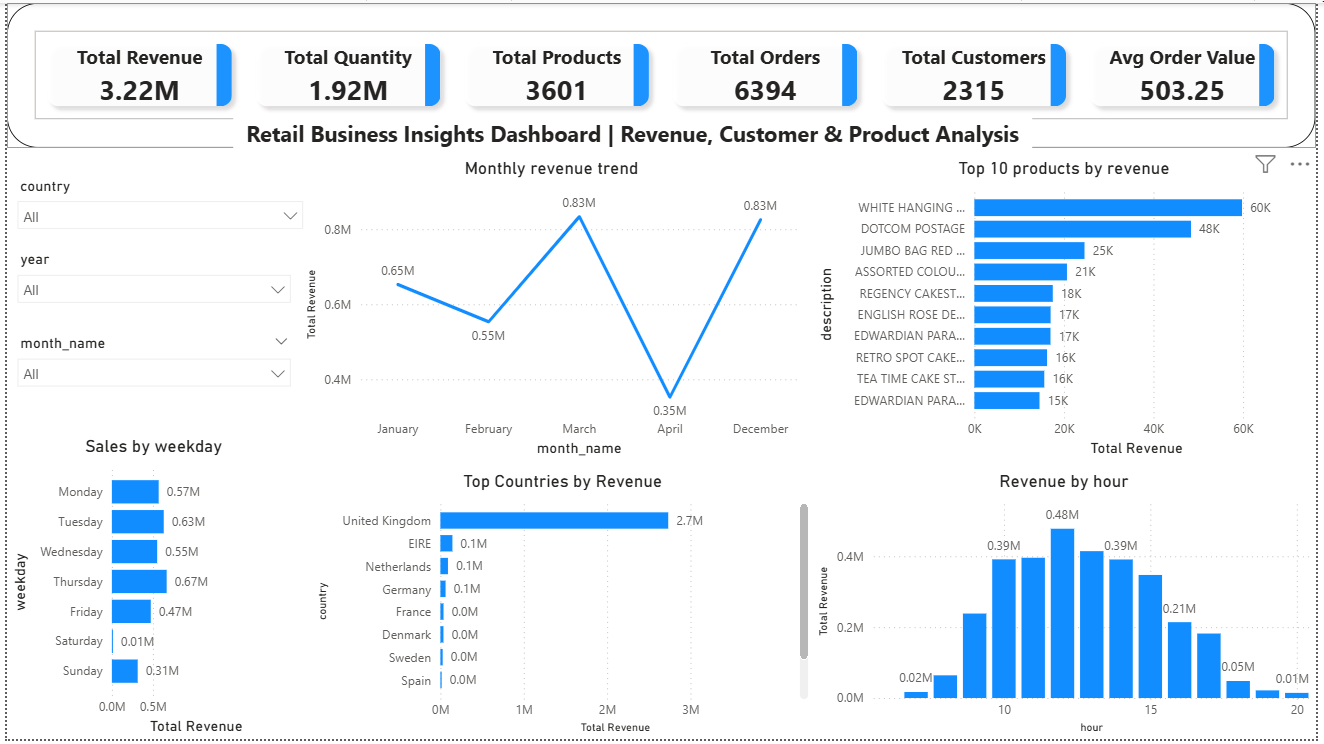

What the dashboard file says about the page in this screenshot:
{"tool":"powerbi","page":{"name":"Executive Overview","canvas":[1280,720],"ordinal":0},"visuals":[{"type":"cardVisual","fields":{"Data":["final_online_retail.Total Revenue","final_online_retail.Total Quantity","final_online_retail.Total Products","final_online_retail.Total Orders","final_online_retail.Total Customers","final_online_retail.Avg Order Value"]},"box":[0,0,1280.3,141.8],"z":0},{"type":"lineChart","title":"Monthly revenue trend","fields":{"Category":["final_online_retail.month_name"],"Y":["final_online_retail.Total Revenue"]},"box":[287.1,151.5,490.5,297.2],"z":1000},{"type":"clusteredBarChart","title":"Top 10 products by revenue","fields":{"Category":["final_online_retail.description"],"Y":["final_online_retail.Total Revenue"]},"box":[789.2,151.5,490.5,297.2],"z":2000},{"type":"barChart","title":"Top Countries by Revenue","fields":{"Category":["final_online_retail.country"],"Y":["final_online_retail.Total Revenue"]},"box":[298.7,457.4,490.5,262.6],"z":3000},{"type":"columnChart","title":"Revenue by hour","fields":{"Category":["final_online_retail.hour"],"Y":["final_online_retail.Total Revenue"]},"box":[789.2,457.4,490.5,262.6],"z":4000},{"type":"barChart","title":"Sales by weekday","fields":{"Category":["final_online_retail.weekday"],"Y":["final_online_retail.Total Revenue"]},"box":[0,422.7,287.1,297.2],"z":5000},{"type":"slicer","fields":{"Values":["final_online_retail.year"]},"box":[0,237.2,287.4,81.9],"z":6000},{"type":"slicer","fields":{"Values":["final_online_retail.month_name"]},"box":[0,319.2,287.4,80.7],"z":7000},{"type":"slicer","fields":{"Values":["final_online_retail.country"]},"box":[0,165.1,299.6,72.1],"z":8000},{"type":"textbox","box":[221.3,107.6,781.4,44],"z":8001}]}

Visuals, with their boxes in screenshot pixels (x1, y1, x2, y2), scaled from the page's 1280x720 canvas onto the 1324x744 screenshot:
cardVisual - final_online_retail.Total Revenue x final_online_retail.Total Quantity: box=[0, 0, 1323, 147]
"Monthly revenue trend" lineChart: box=[297, 157, 804, 464]
"Top 10 products by revenue" clusteredBarChart: box=[816, 157, 1323, 464]
"Top Countries by Revenue" barChart: box=[309, 473, 816, 743]
"Revenue by hour" columnChart: box=[816, 473, 1323, 743]
"Sales by weekday" barChart: box=[0, 437, 297, 743]
slicer - final_online_retail.year: box=[0, 245, 297, 330]
slicer - final_online_retail.month_name: box=[0, 330, 297, 413]
slicer - final_online_retail.country: box=[0, 171, 310, 245]
textbox: box=[229, 111, 1037, 157]
